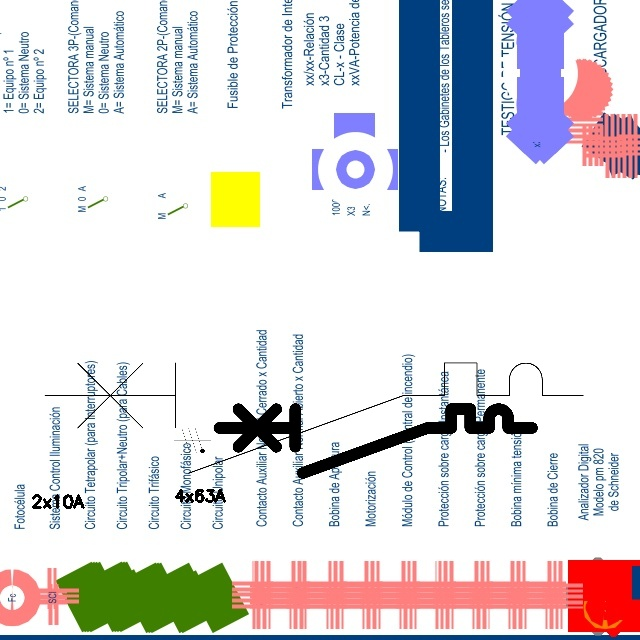interruptor_termomagnetico: (31, 349, 597, 487), (211, 401, 540, 481)
